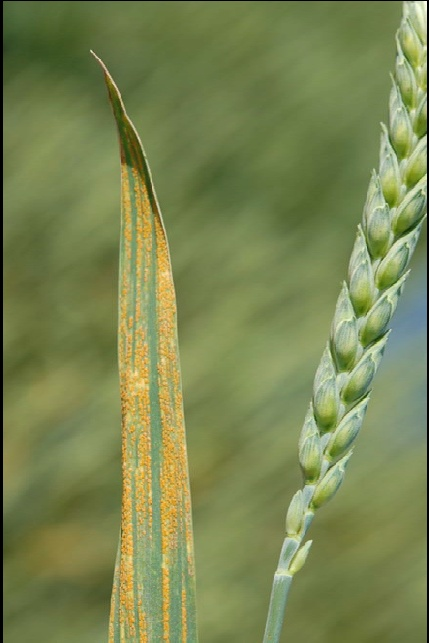Leaf Rust: (102, 200, 205, 621)
